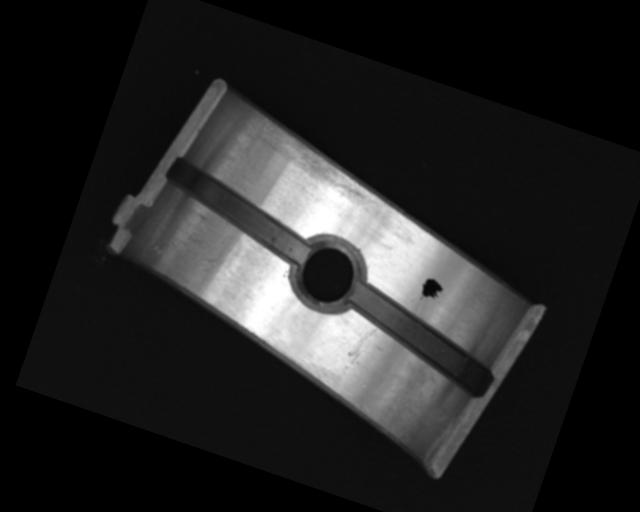blot: (417, 274, 446, 306)
bruise: (202, 255, 222, 268), (149, 242, 165, 256)
gap: (334, 279, 507, 398), (153, 155, 324, 266)
hole: (282, 227, 372, 318)
nick: (341, 320, 378, 374)
scratch: (242, 115, 397, 213)
